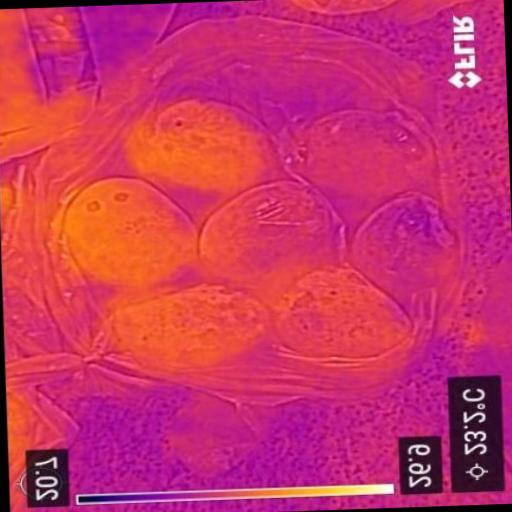alphanso: (295, 111, 436, 227), (200, 180, 340, 286), (64, 177, 196, 287), (128, 98, 274, 195), (111, 284, 268, 374), (275, 264, 411, 363), (349, 192, 458, 300)
